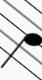B: (1, 22, 42, 73)
